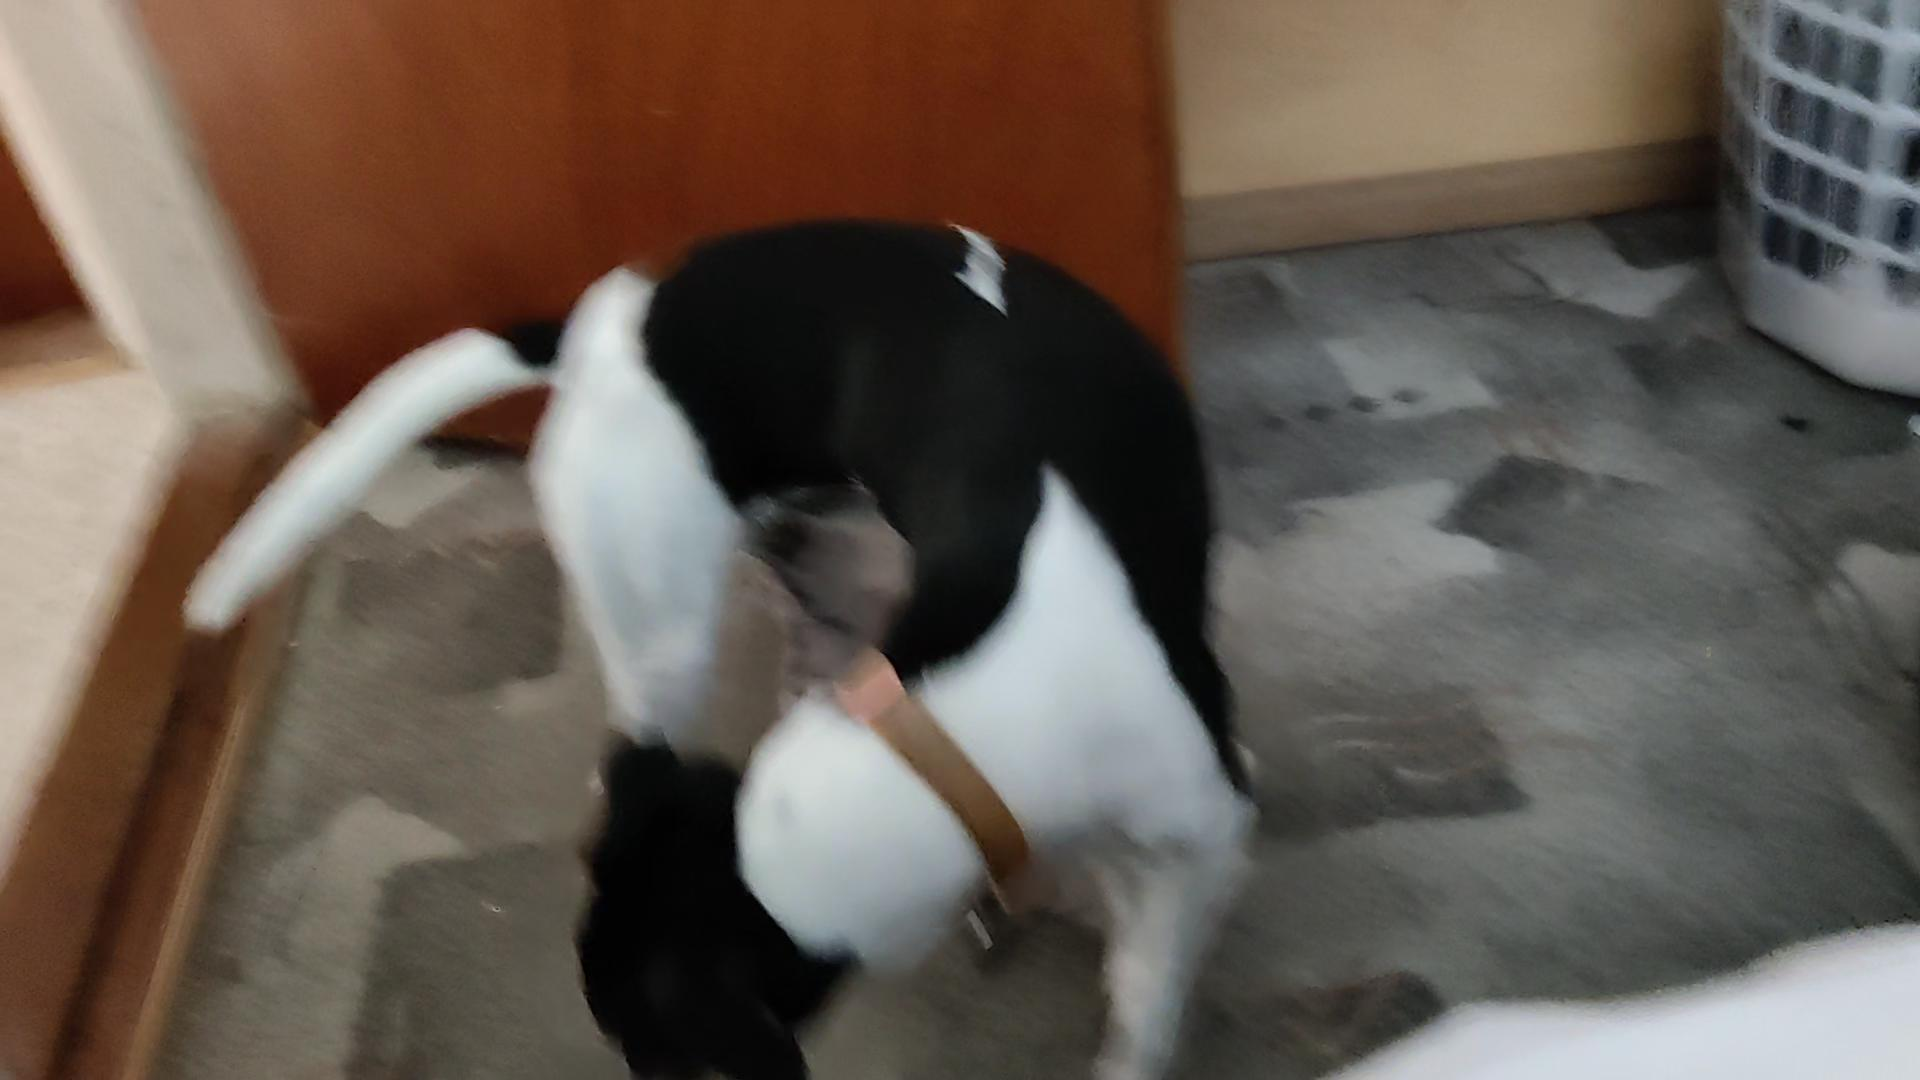Dog: (167, 194, 1302, 1079)
